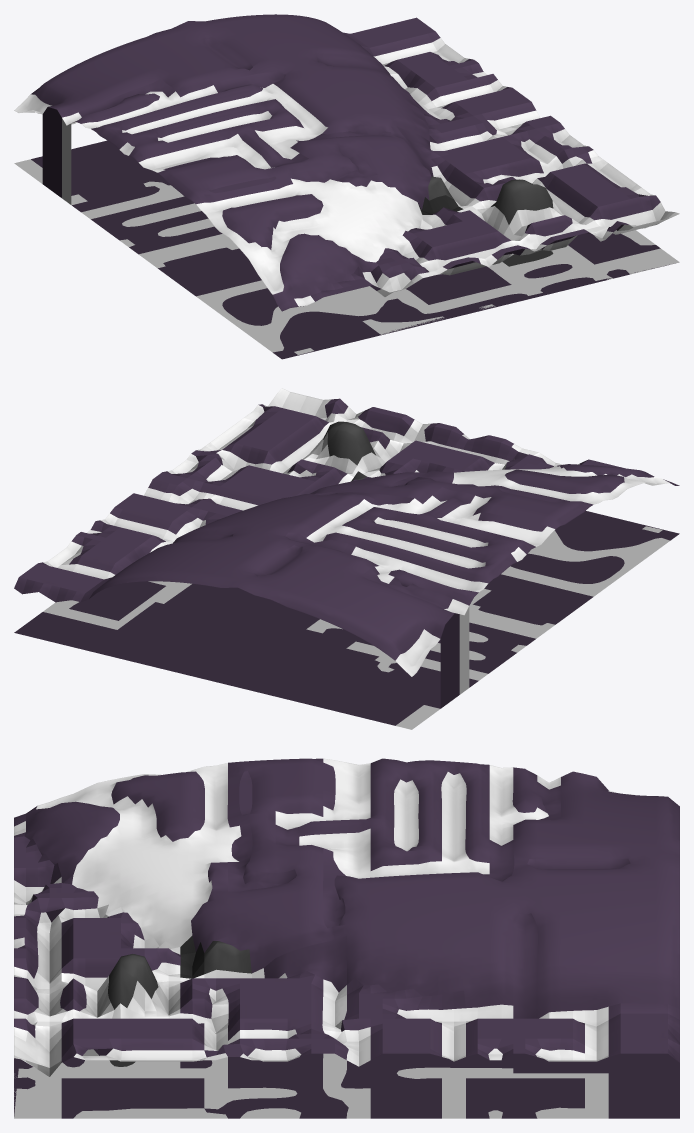
File: delbld-hull-553.glb
3 views of the same model, one above another, from view 1: azimuth 30°, elevation 25°; view 2: azimuth 150°, elevation 25°; view 3: azimuth 270°, elevation 25° (orthographic). The views are drawn at different scales.
Visible parts, largest first — view 1: delbld-hull-553; view 2: delbld-hull-553; view 3: delbld-hull-553.
Part boxes in pixels (x1=…): delbld-hull-553: x1=14, y1=14, x2=679, y2=359; delbld-hull-553: x1=14, y1=388, x2=679, y2=729; delbld-hull-553: x1=14, y1=758, x2=679, y2=1118.
Size of the model in its own units: 2 by 0.4799 by 2.33.
Materials: 5 (5 with a texture image).
